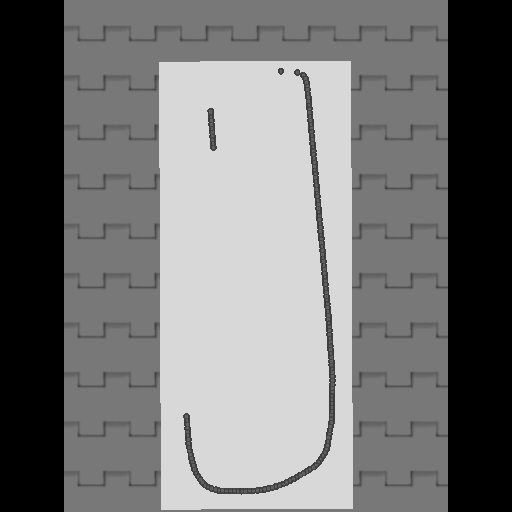Defect: (181, 150, 219, 414)
